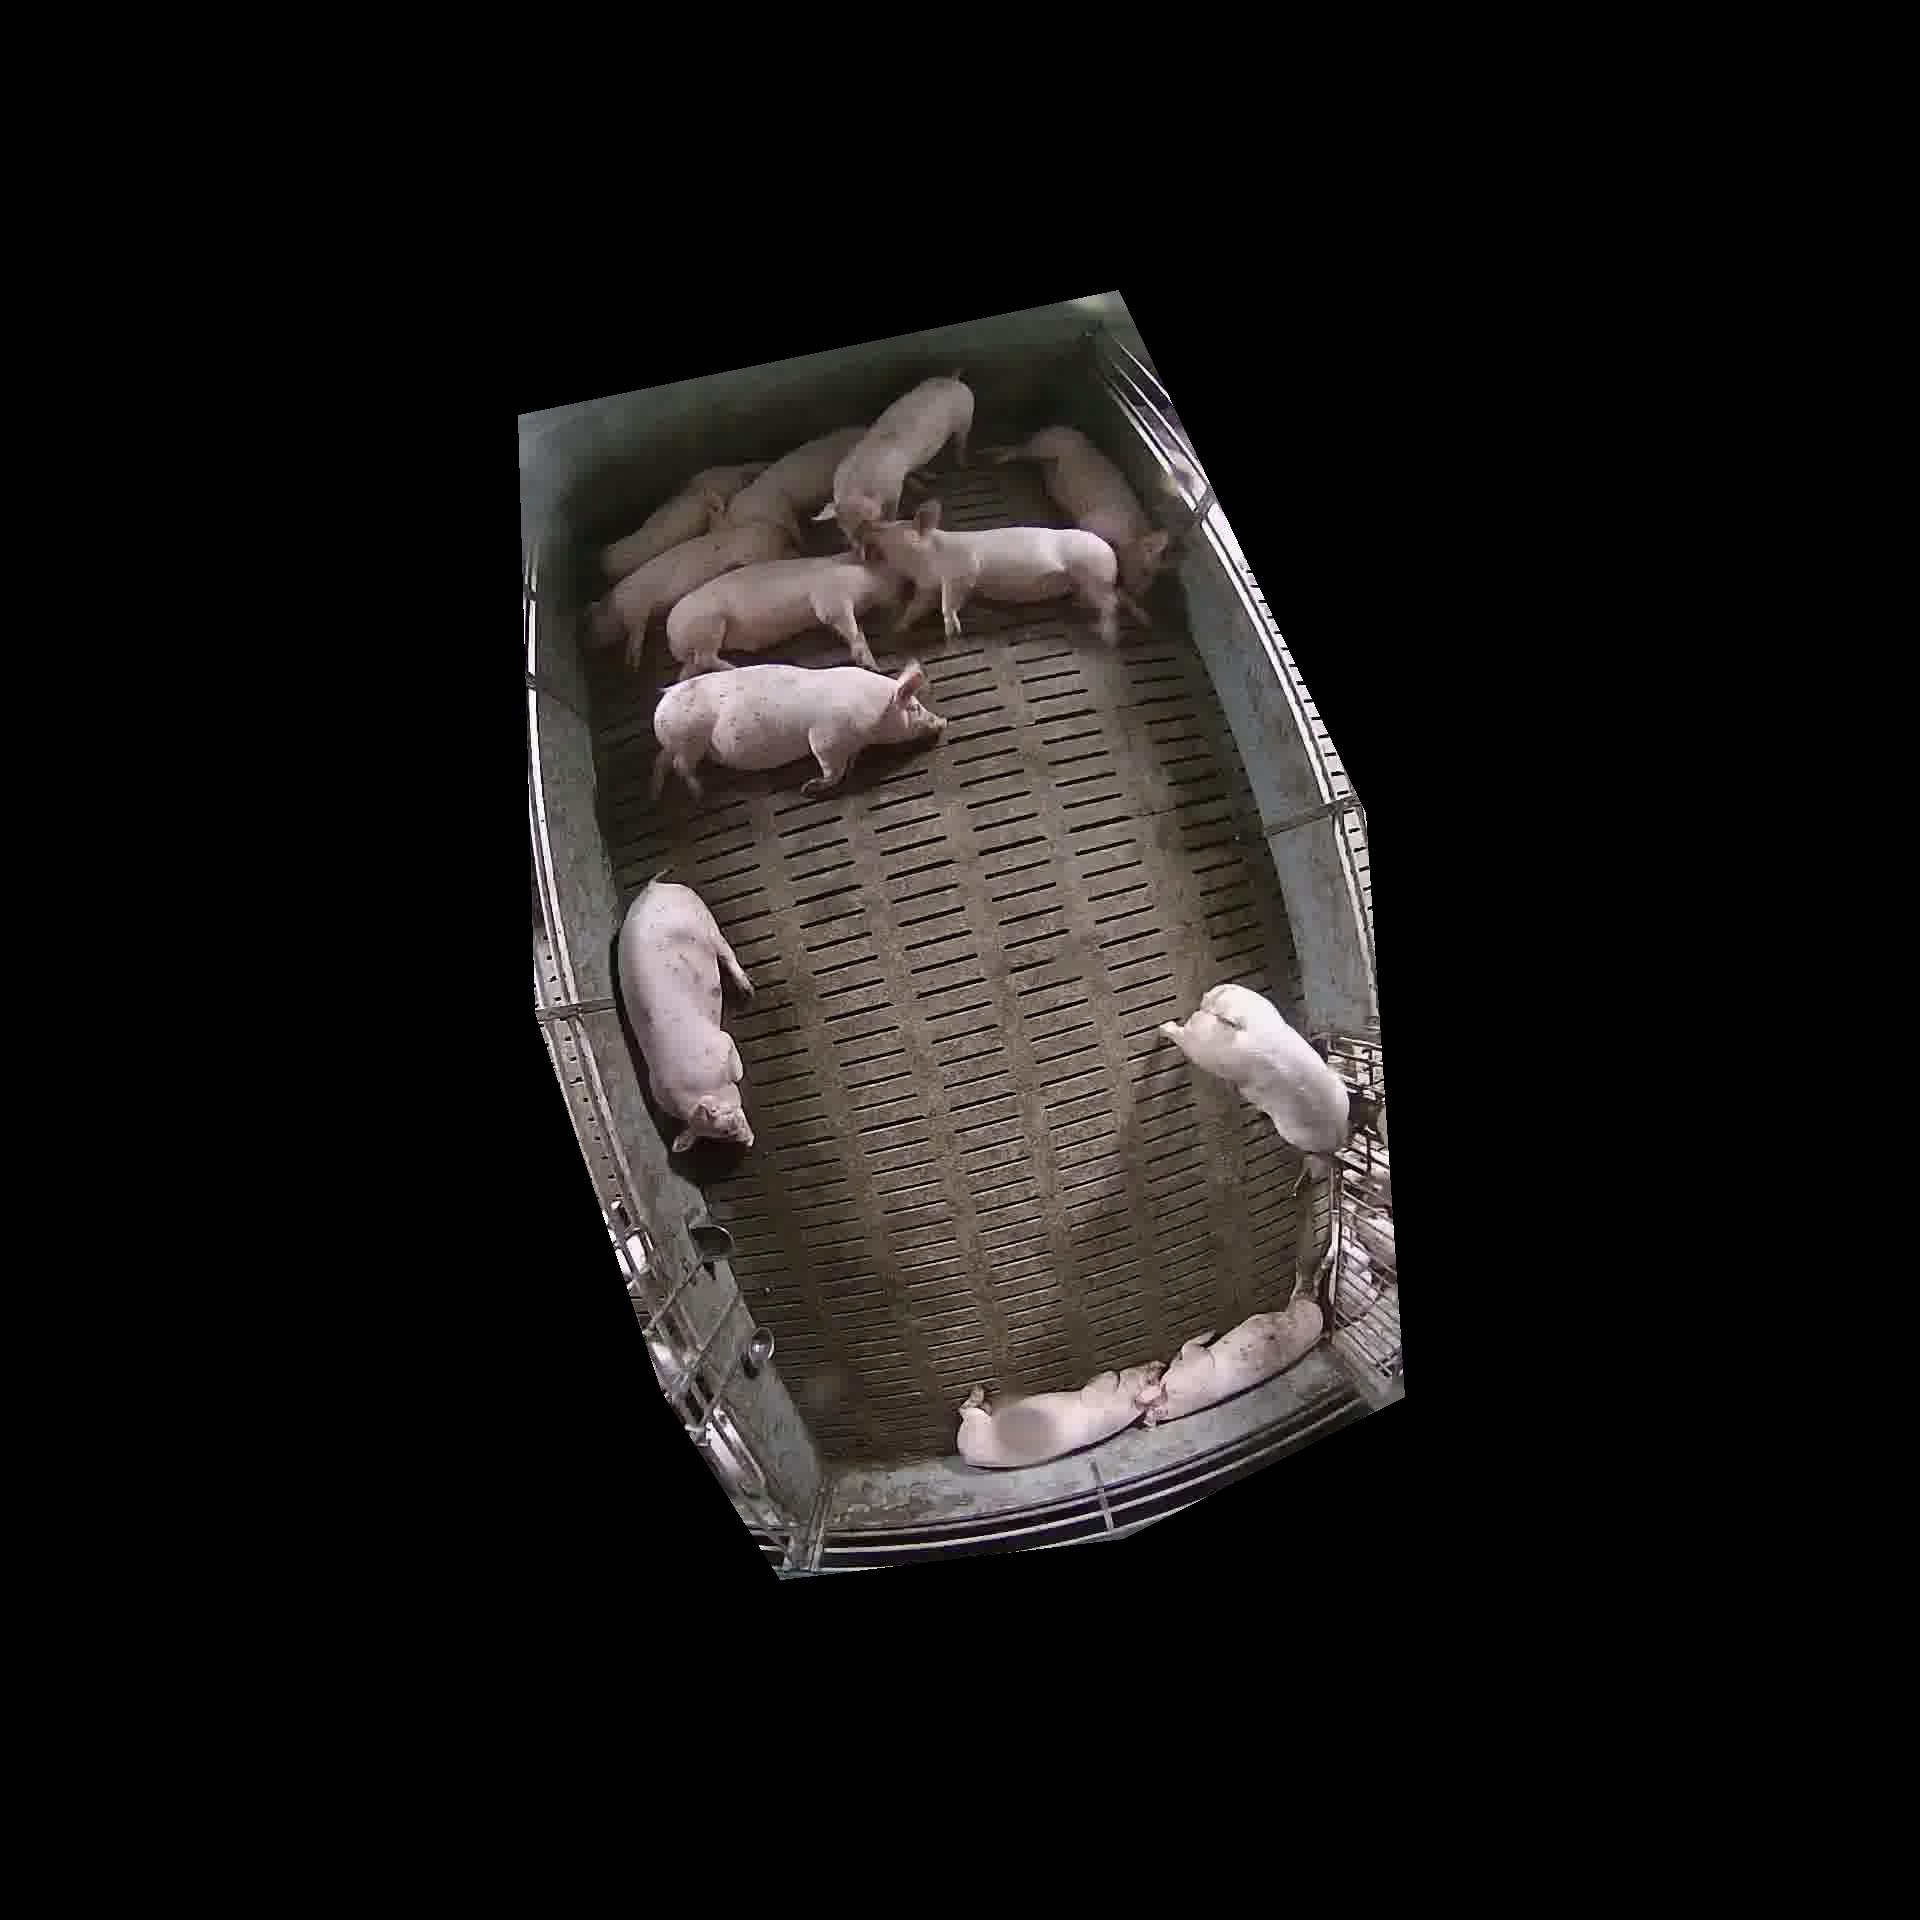pig: (652, 665, 944, 796), (617, 879, 753, 1152), (865, 501, 1118, 645), (993, 425, 1167, 622), (1160, 985, 1349, 1153), (585, 522, 791, 666), (666, 556, 900, 677), (819, 373, 974, 542), (1145, 1298, 1322, 1422), (956, 1363, 1162, 1466), (598, 462, 765, 582), (724, 427, 865, 540)
